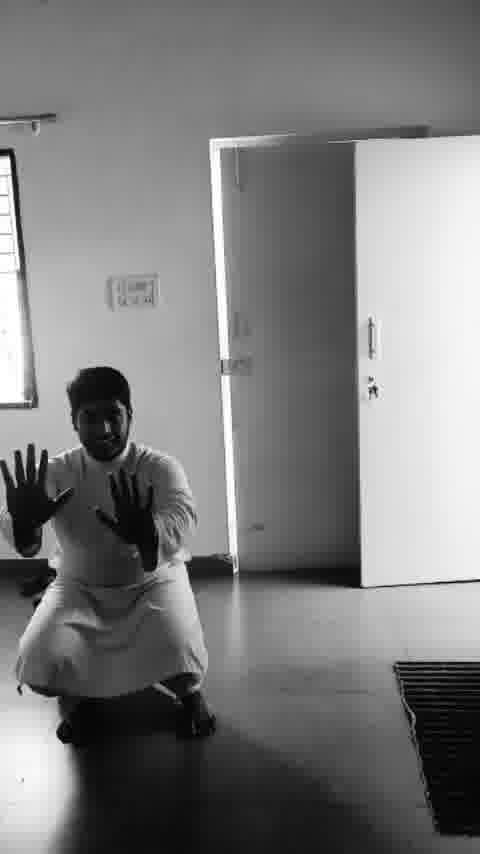duck: (6, 367, 239, 746)
